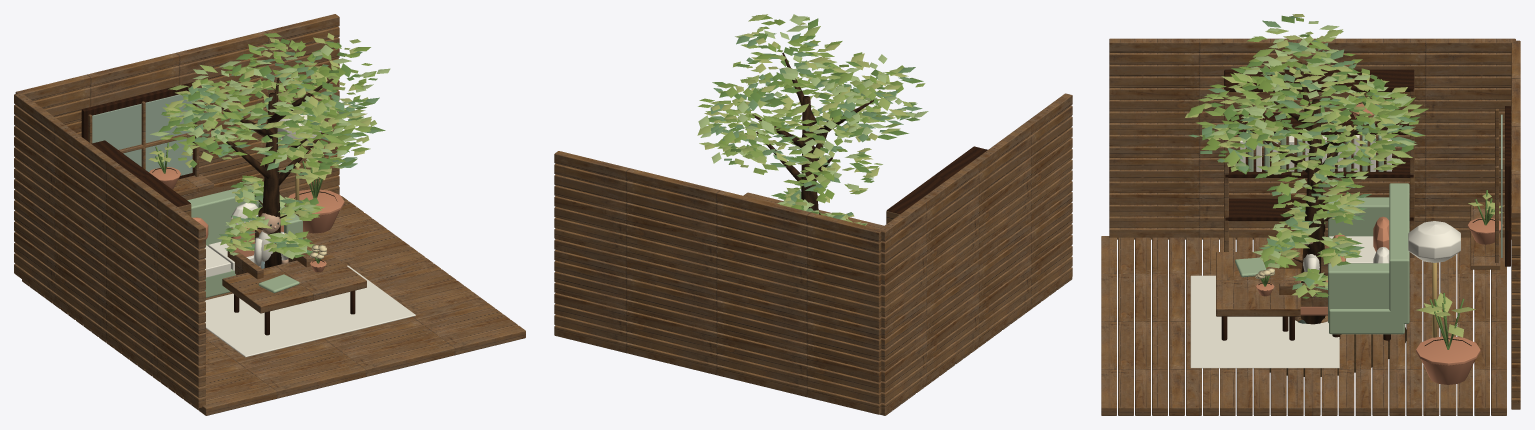
The model's file is details-optimized.glb.
3 views of the same model, side by side, from view 1: azimuth 30°, elevation 25°; view 2: azimuth 150°, elevation 25°; view 3: azimuth 270°, elevation 25° (orthographic). The views are drawn at different scales.
Visible parts, largest first — view 1: Room cedarLight, Room cedar, Room linen, Room glass, Canopy leaf0, Canopy leaf5, Canopy leaf3, Canopy leaf4, Canopy leaf1, Room sage, Room darkwood, Canopy leaf6 (+13 smaller); view 2: Room cedar, Room cedarLight, Canopy leaf5, Canopy leaf1, Canopy leaf2, Canopy leaf3, Canopy leaf0, Canopy leaf6, Canopy leaf4, Canopy bark, Room darkwood; view 3: Room cedarLight, Room linen, Room sage, Room darkwood, Canopy leaf1, Canopy leaf2, Room terra, Room cedar, Canopy leaf6, Canopy leaf0, Canopy leaf5, Canopy leaf3 (+12 smaller).
Boxes of the visible parts, <box> form: Room cedarLight: <box>14,92,525,415</box>; Room cedar: <box>15,14,339,206</box>; Room linen: <box>205,114,415,357</box>; Room glass: <box>92,94,192,175</box>; Canopy leaf0: <box>158,38,385,170</box>; Canopy leaf5: <box>150,44,390,163</box>; Canopy leaf3: <box>165,33,371,178</box>; Canopy leaf4: <box>161,41,370,175</box>; Canopy leaf1: <box>168,33,376,166</box>; Room sage: <box>187,183,302,297</box>; Room darkwood: <box>81,82,355,335</box>; Canopy leaf6: <box>182,41,380,175</box>; Room cedar: <box>554,151,881,414</box>; Room cedarLight: <box>743,93,1072,415</box>; Canopy leaf5: <box>698,14,928,190</box>; Canopy leaf1: <box>705,17,925,203</box>; Canopy leaf2: <box>697,14,912,182</box>; Canopy leaf3: <box>704,22,908,202</box>; Canopy leaf0: <box>708,18,923,191</box>; Canopy leaf6: <box>710,33,922,191</box>; Canopy leaf4: <box>698,15,910,200</box>; Canopy bark: <box>752,52,873,210</box>; Room darkwood: <box>886,146,987,213</box>; Room cedarLight: <box>1101,38,1515,415</box>; Room linen: <box>1190,135,1460,368</box>; Room sage: <box>1235,135,1409,334</box>; Room darkwood: <box>1221,69,1510,341</box>; Canopy leaf1: <box>1187,36,1428,220</box>; Canopy leaf2: <box>1198,28,1422,222</box>; Room terra: <box>1256,102,1503,384</box>; Room cedar: <box>1511,40,1520,409</box>; Canopy leaf6: <box>1188,16,1422,226</box>; Canopy leaf0: <box>1202,15,1420,217</box>; Canopy leaf5: <box>1210,21,1417,223</box>; Canopy leaf3: <box>1185,14,1420,228</box>.
Bounding box in the file's own units: 6.07 × 5.06 × 6.19.
22 materials, 6 textured.
